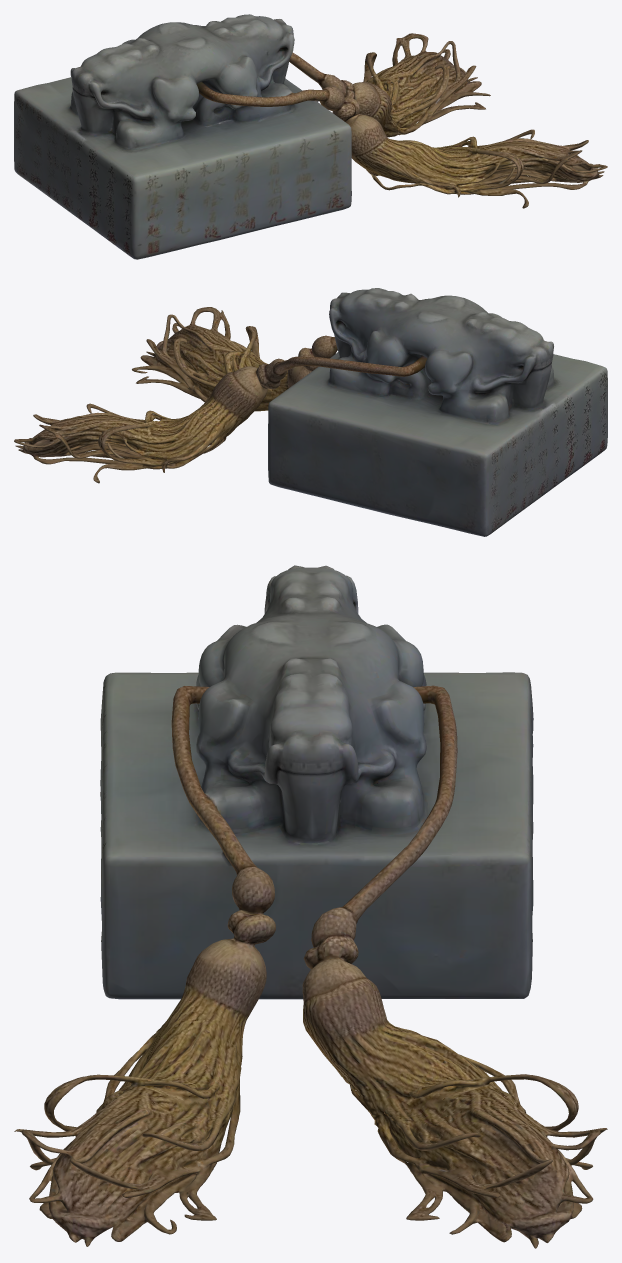
Rendered from 太上皇帝之宝.glb.
The picture shows the model from 3 angles, top to bottom: view 1: azimuth 30°, elevation 25°; view 2: azimuth 150°, elevation 25°; view 3: azimuth 270°, elevation 25°; orthographic projection. The views are drawn at different scales.
Visible parts, largest first — view 1: tripo_node_d32e29ab; view 2: tripo_node_d32e29ab; view 3: tripo_node_d32e29ab.
Boxes of the visible parts, x1,y1,x2,y2 form: tripo_node_d32e29ab: (14,14,607,259); tripo_node_d32e29ab: (14,288,607,536); tripo_node_d32e29ab: (14,565,607,1248).
Size of the model in its own units: 97.68 by 36.5 by 61.34.
1 material, 1 textured.
